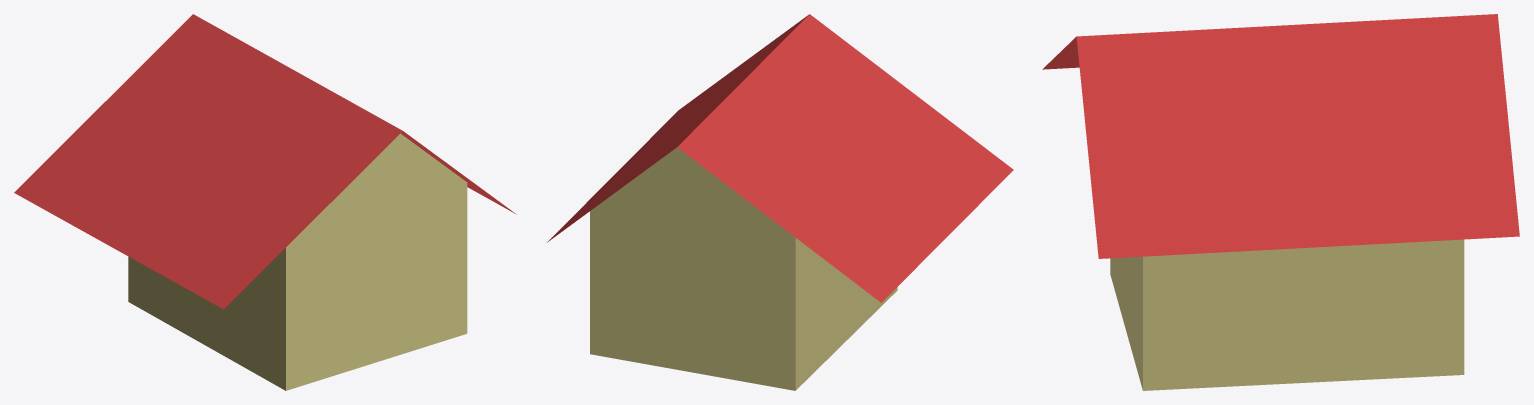
3 views of the same model, side by side, from view 1: azimuth 30°, elevation 25°; view 2: azimuth 150°, elevation 25°; view 3: azimuth 270°, elevation 25° (orthographic). The views are drawn at different scales.
Size of the model in its own units: 16.34 by 15.57 by 10.78.
